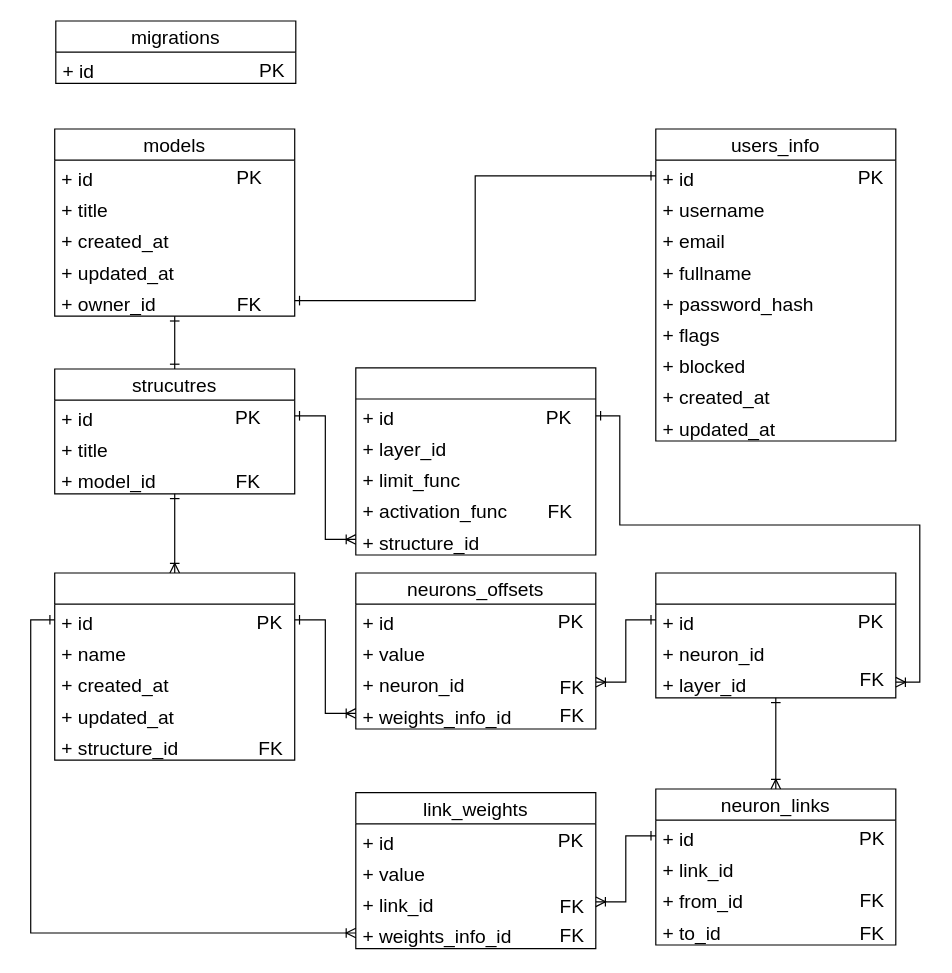
The diagram is 952 pixels wide and 973 high, and some of its shapes have lost their labels. The shapes that lost their labels are listed below. From the top down, each one's box as (x1, y1, x2, y2) in pixels, then its label:
(355, 367, 596, 555): layers
(655, 572, 896, 698): neurons
(54, 572, 295, 760): weights_info
